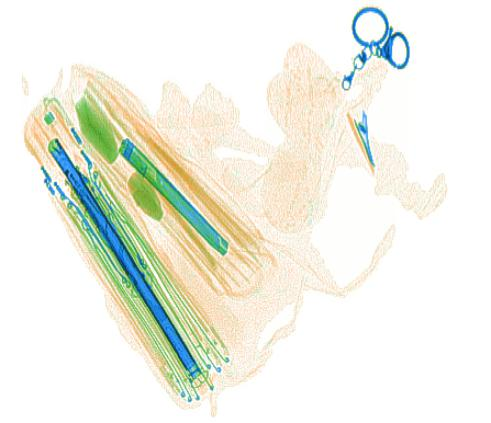knife: (117, 136, 230, 256)
